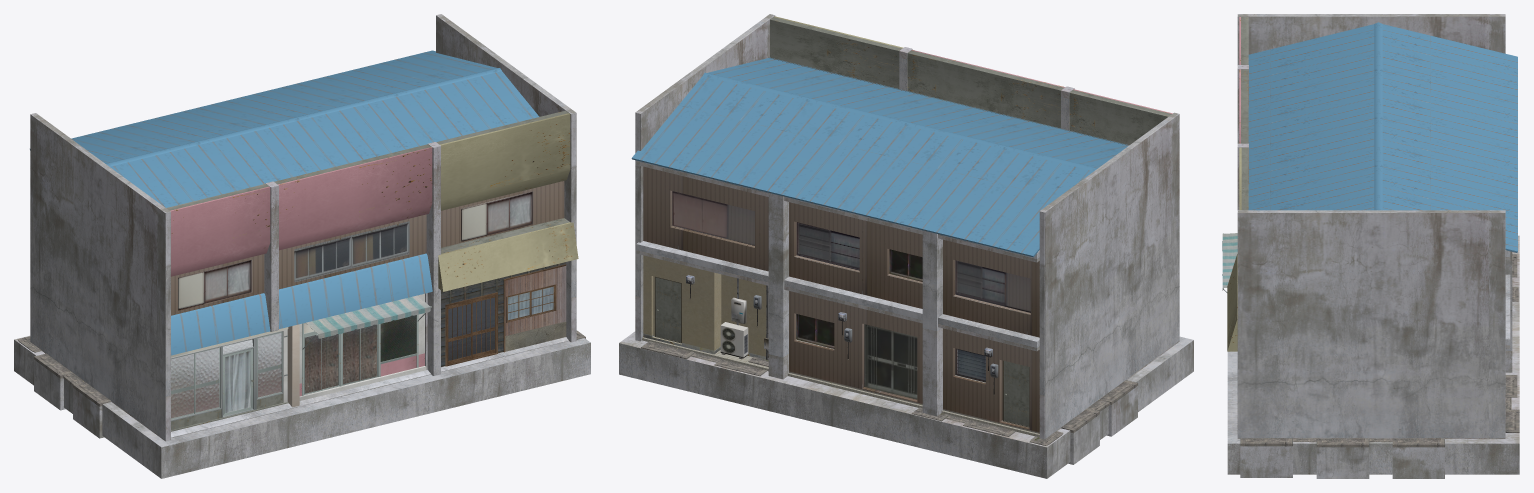
Rendered from tri_shop_3.fbx.
3 renders of one model, left to right at view 1: azimuth 30°, elevation 25°; view 2: azimuth 150°, elevation 25°; view 3: azimuth 270°, elevation 25°, orthographic.
Visible parts, largest first — view 1: tri_shop_3; view 2: tri_shop_3; view 3: tri_shop_3.
Boxes of the visible parts, x1,y1,x2,y2 form: tri_shop_3: (14, 14, 590, 478); tri_shop_3: (619, 14, 1193, 478); tri_shop_3: (1222, 14, 1519, 478).
Bounding box in the file's own units: 1808 × 1077 × 1038.
14 materials, 14 textured.
